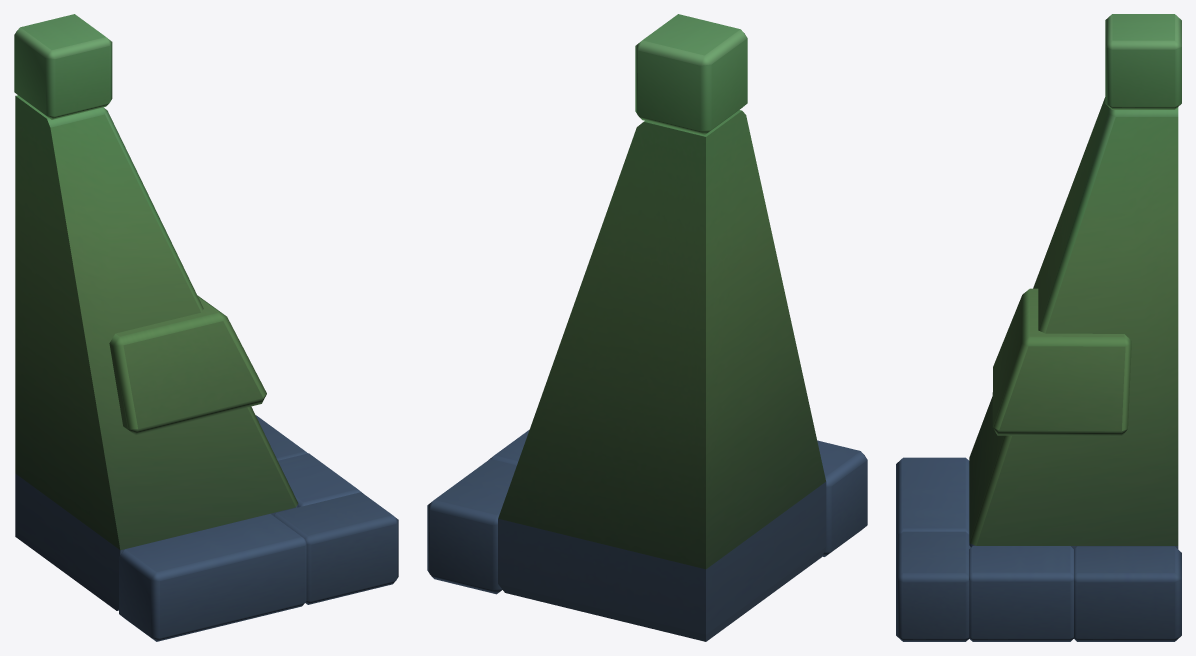
Rendered from wall_lower_corner_conves.fbx.
3 renders of one model, left to right at view 1: azimuth 30°, elevation 25°; view 2: azimuth 150°, elevation 25°; view 3: azimuth 270°, elevation 25°, orthographic. The views are drawn at different scales.
Visible parts, largest first — view 1: wall_lower_corner_conves; view 2: wall_lower_corner_conves; view 3: wall_lower_corner_conves.
Part boxes in pixels (x1,y1,x2,y2): wall_lower_corner_conves: [14, 14, 398, 641]; wall_lower_corner_conves: [427, 14, 867, 641]; wall_lower_corner_conves: [896, 14, 1181, 641].
Bounding box in the file's own units: 205 × 406 × 205.
